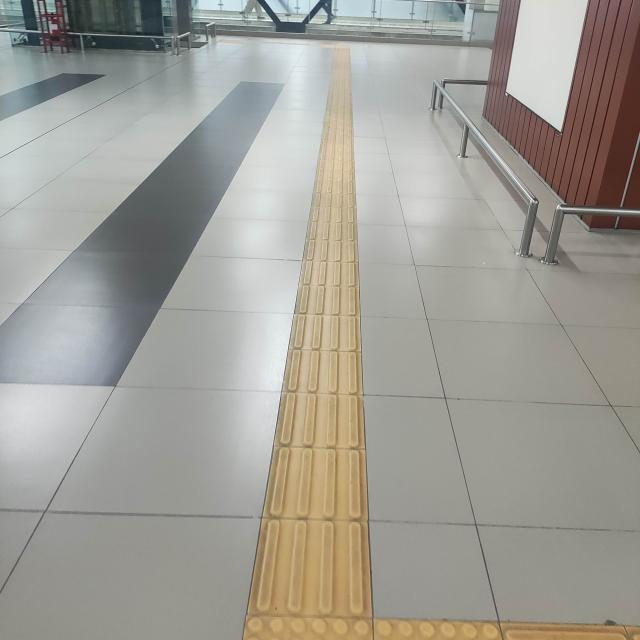lurus: (266, 61, 371, 614)
